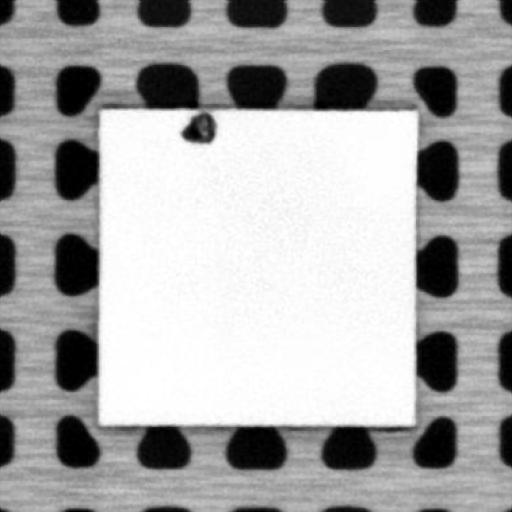DIE_INK: (177, 110, 221, 144)
